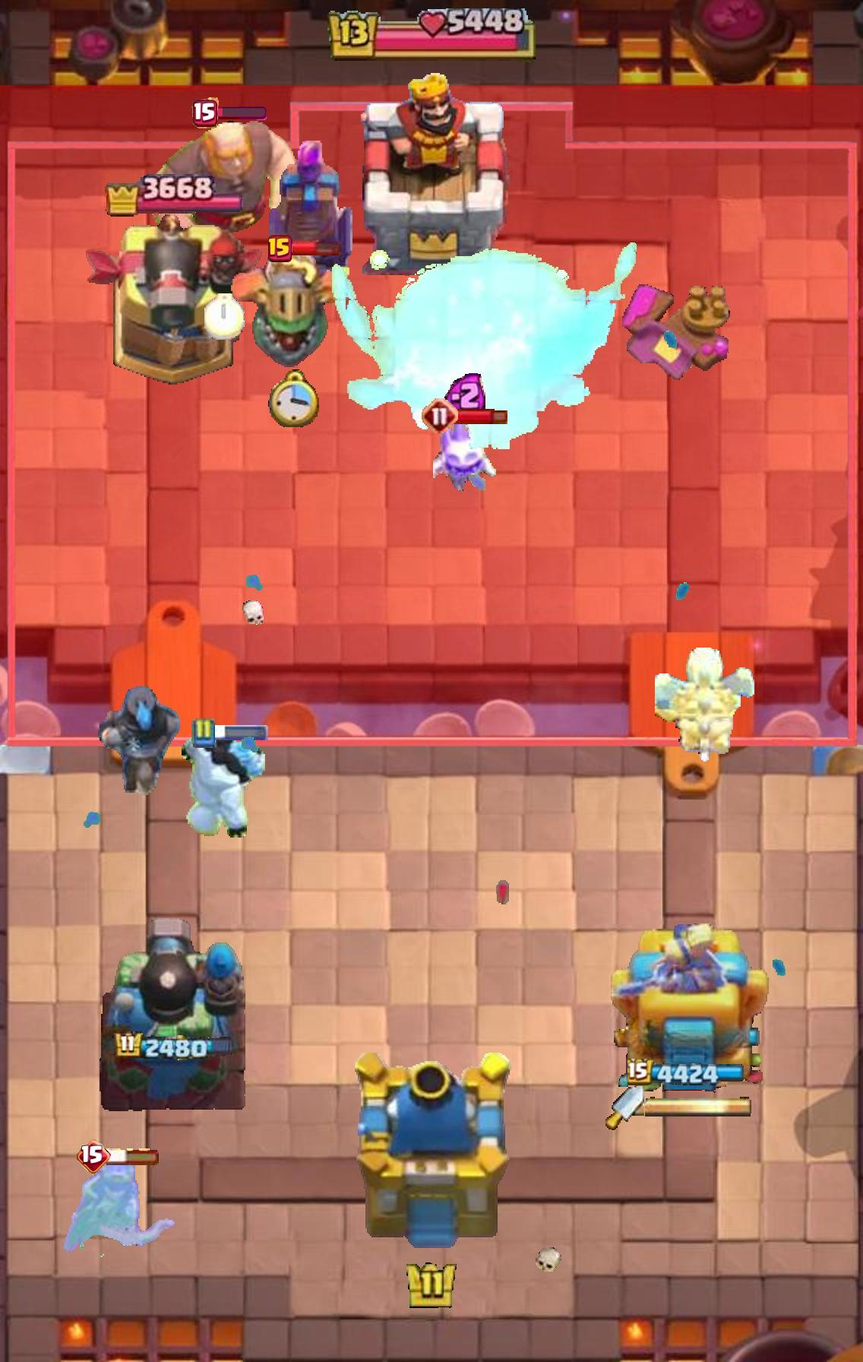elixir: (444, 370, 489, 420)
ice-golem: (176, 730, 273, 846)
